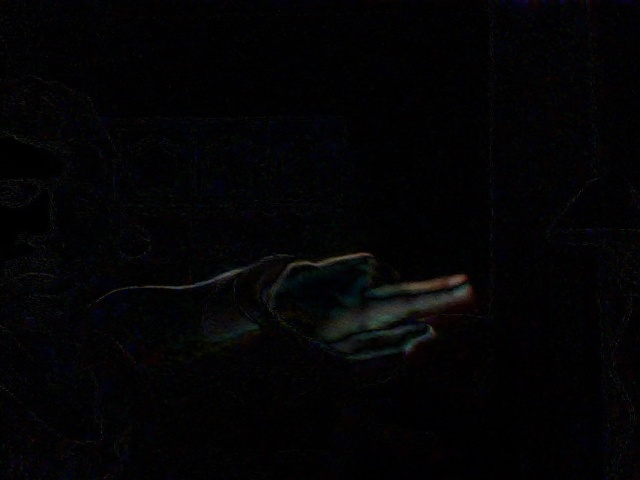hand_po: (257, 229, 486, 367)
